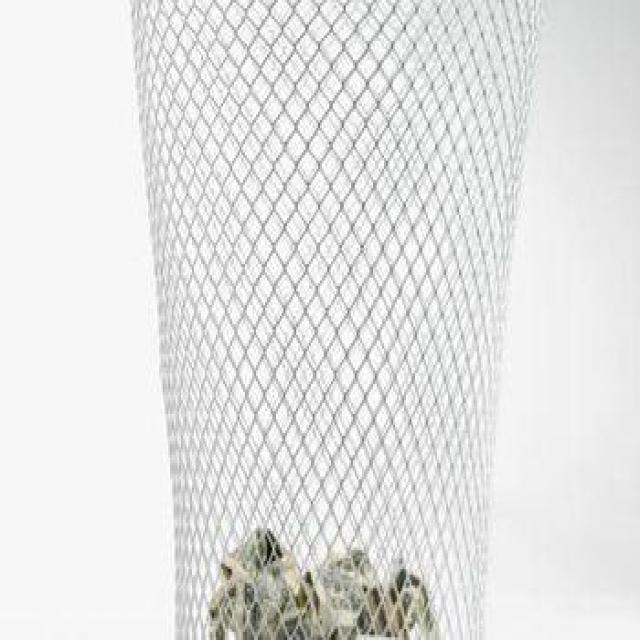others: (119, 1, 549, 640), (190, 507, 448, 640)
